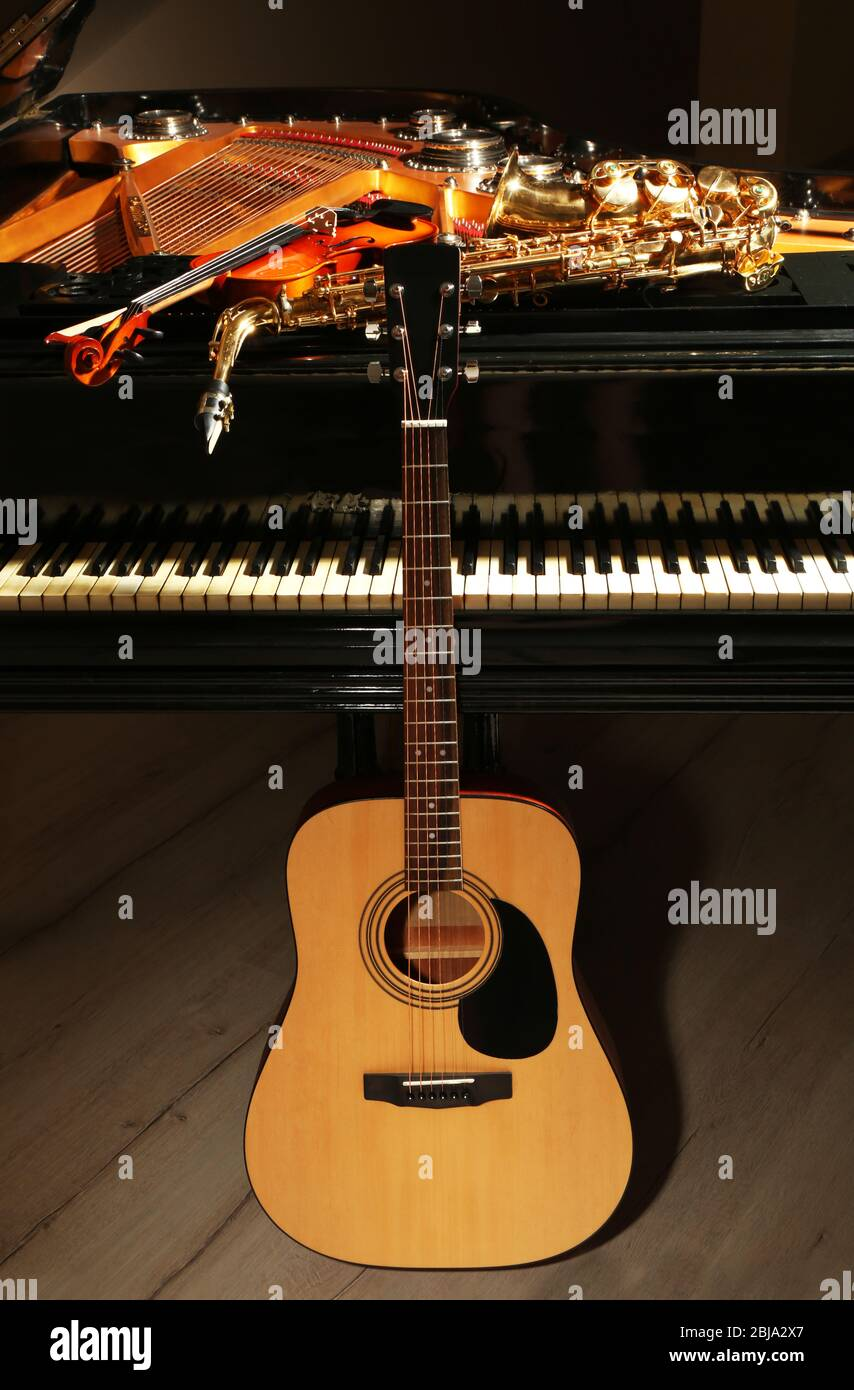Piano: (18, 373, 854, 767)
Saxophone: (107, 175, 854, 488)
Violin: (27, 128, 571, 428)
